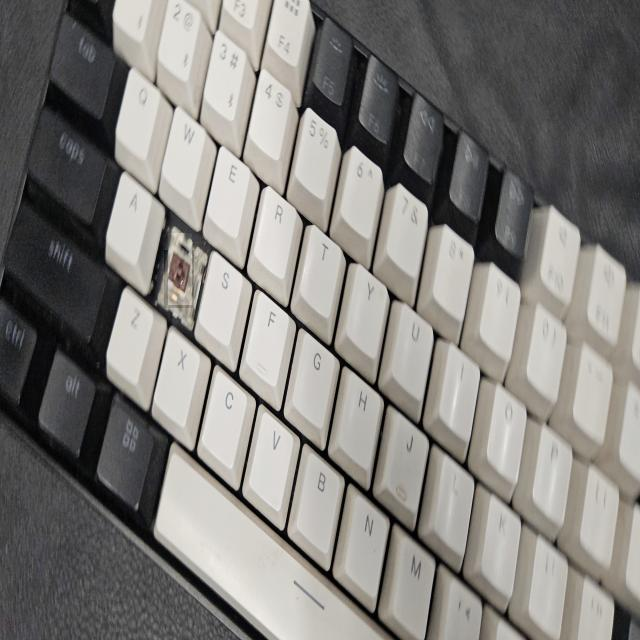C: (168, 233, 192, 306), (164, 250, 194, 308)
